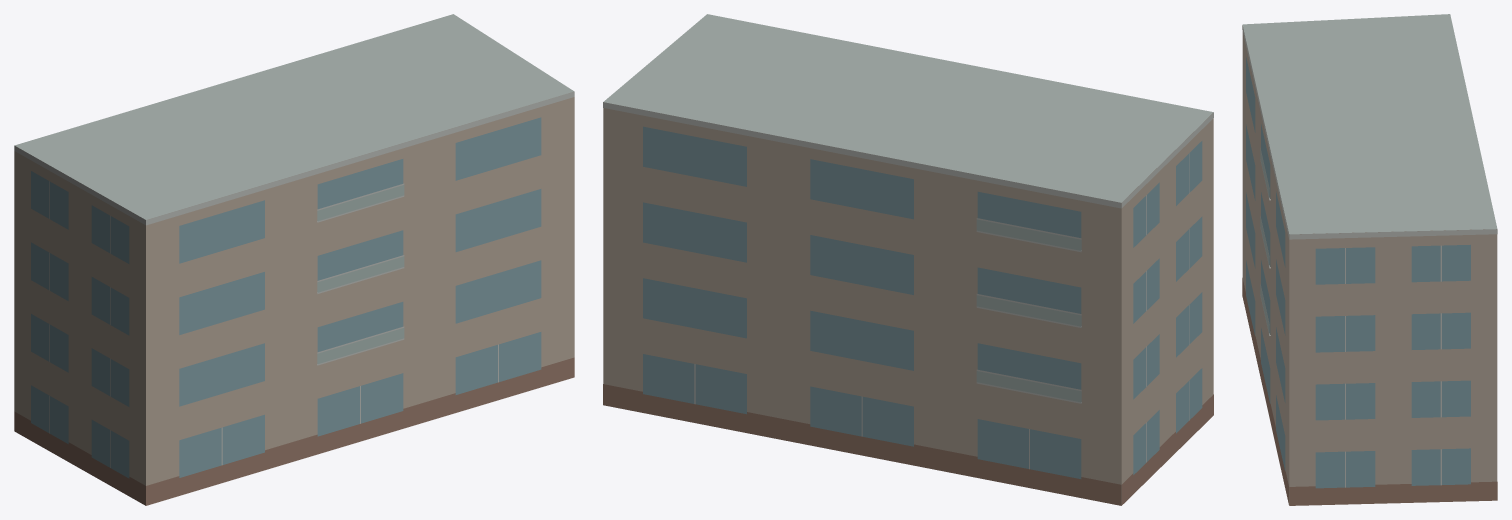
The model's file is survey-upis-32630728.glb.
3 renders of one model, left to right at view 1: azimuth 30°, elevation 25°; view 2: azimuth 150°, elevation 25°; view 3: azimuth 270°, elevation 25°, orthographic. The views are drawn at different scales.
Parts seen in each view (by area): view 1: survey-upis-32630728.tmp; view 2: survey-upis-32630728.tmp; view 3: survey-upis-32630728.tmp.
Boxes of the visible parts, x1,y1,x2,y2 form: survey-upis-32630728.tmp: (14, 14, 574, 505); survey-upis-32630728.tmp: (603, 14, 1213, 505); survey-upis-32630728.tmp: (1242, 14, 1497, 505).
Size of the model in its own units: 22.29 by 12.8 by 10.91.
